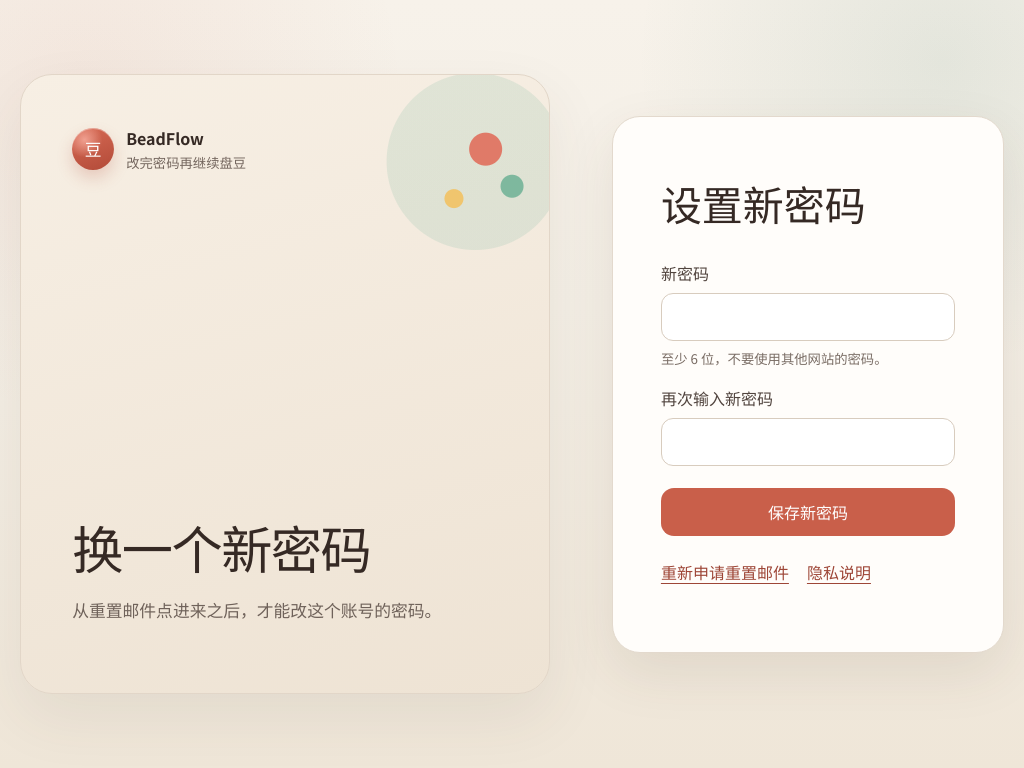
Test: authenticated application shell › requires a valid recovery session before changing a password
Expected: the heading "设置新密码" is shown, [661,172,866,232]
In the password field labelled "新密码 至少 6 位，不要使用其他网站的密码。": (808, 316) [661,292,955,340], type "new-safe-password"
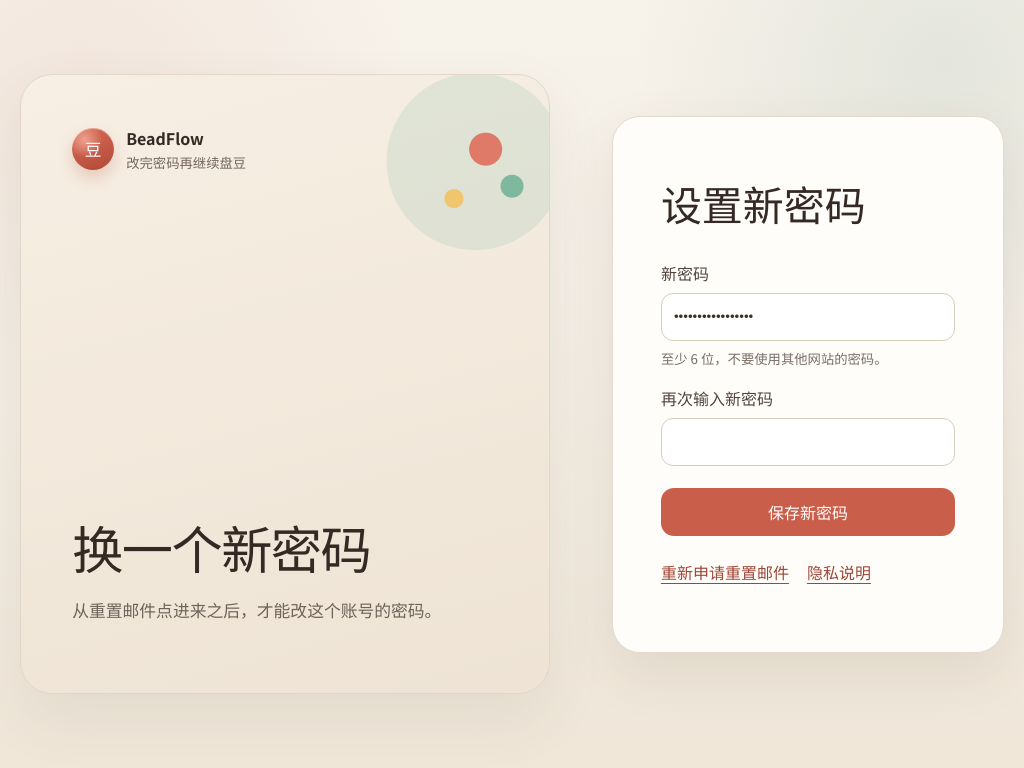
In the password field labelled "再次输入新密码": (808, 442) [661,418,955,466], type "new-safe-password"
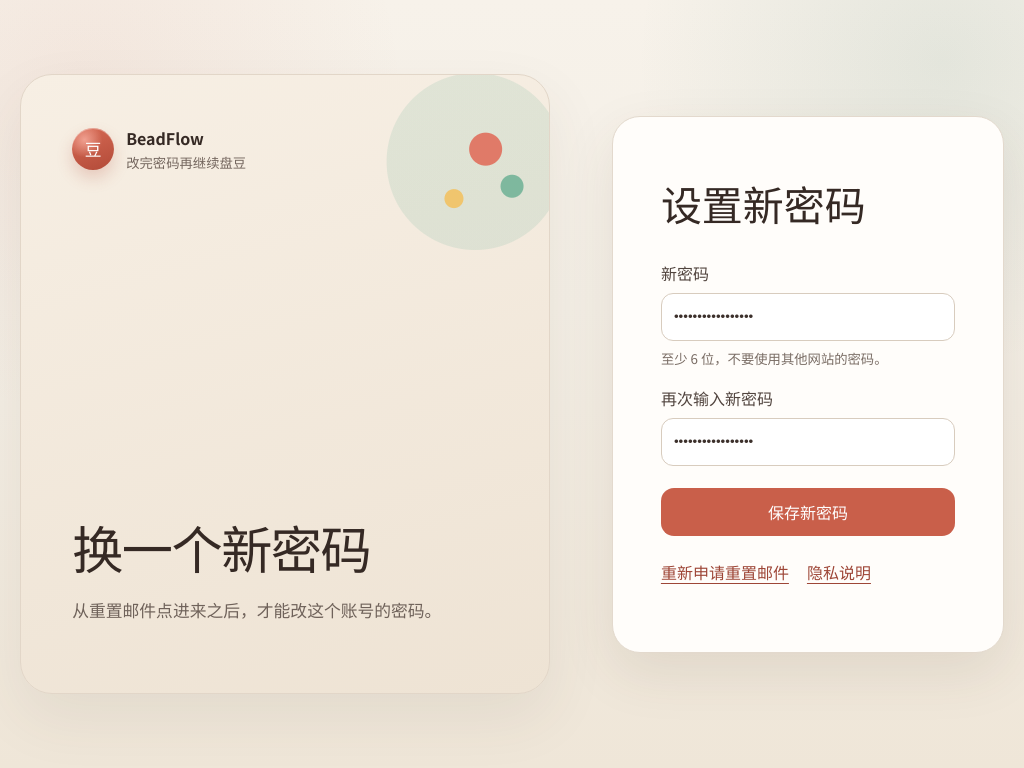
Click the button "保存新密码": (808, 512) [661,488,955,536]
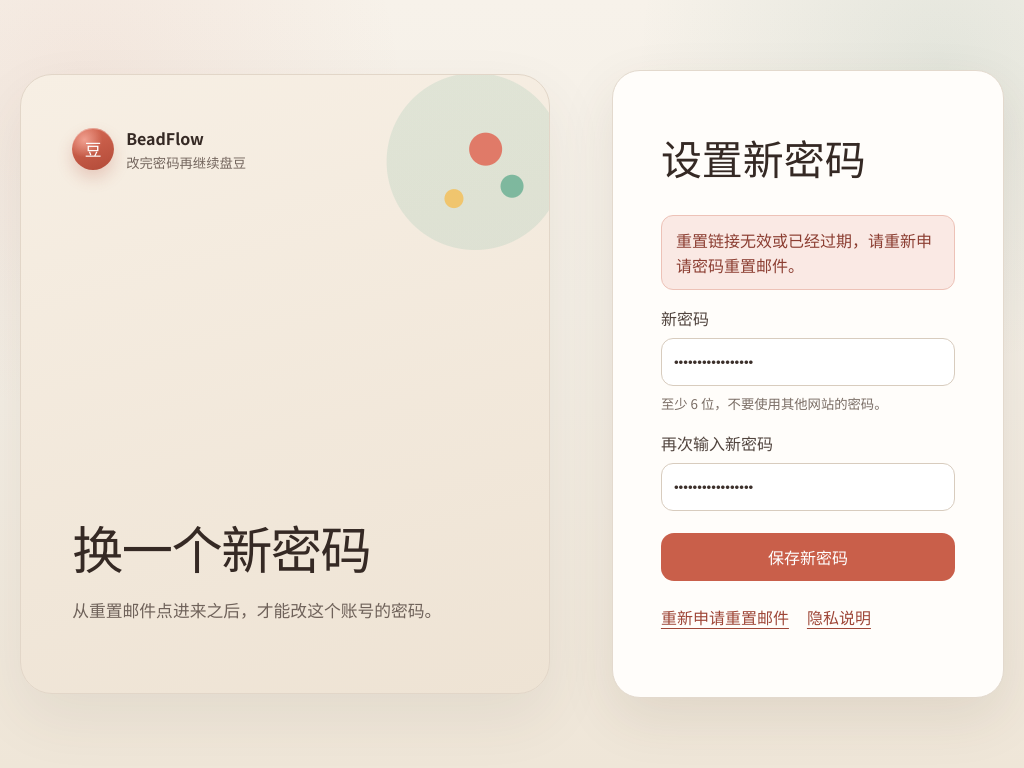
Now the message shows "重置链接无效或已经过期", box [676,228,932,276]
